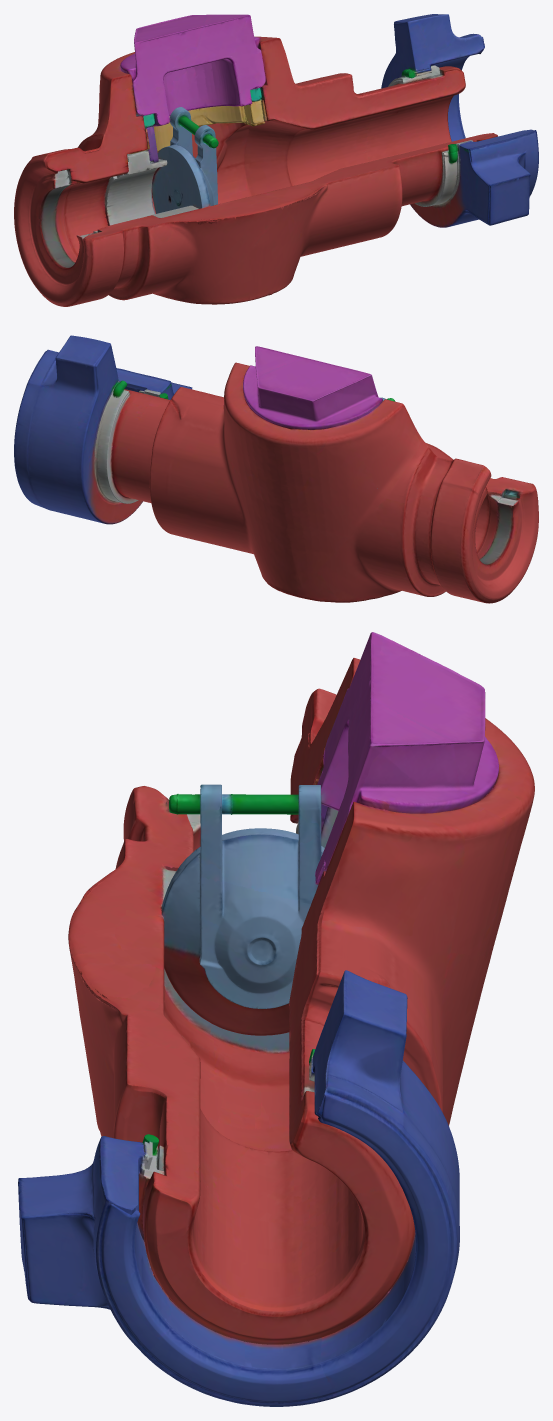
The model's file is veletaSuperior.glb.
The picture shows the model from 3 angles, top to bottom: view 1: azimuth 30°, elevation 25°; view 2: azimuth 150°, elevation 25°; view 3: azimuth 270°, elevation 25°; orthographic projection. The views are drawn at different scales.
Parts seen in each view (by area): view 1: tripo_node_9e0797e9-25ac-475b-adcf-fbe8628f4558; view 2: tripo_node_9e0797e9-25ac-475b-adcf-fbe8628f4558; view 3: tripo_node_9e0797e9-25ac-475b-adcf-fbe8628f4558.
Boxes of the visible parts, bbox=[...] form: tripo_node_9e0797e9-25ac-475b-adcf-fbe8628f4558: bbox=[14, 14, 538, 306]; tripo_node_9e0797e9-25ac-475b-adcf-fbe8628f4558: bbox=[14, 335, 538, 603]; tripo_node_9e0797e9-25ac-475b-adcf-fbe8628f4558: bbox=[18, 632, 534, 1406].
Bounding box in the file's own units: 0.98 × 0.4704 × 0.4866.
1 material, 1 textured.
